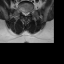CCS_stenosis: (24, 9, 26, 17)
LFS_normal: (28, 10, 30, 16)
LLS_normal: (26, 10, 28, 16)
RFS_normal: (20, 8, 22, 15)
RLS_normal: (22, 10, 24, 16)
